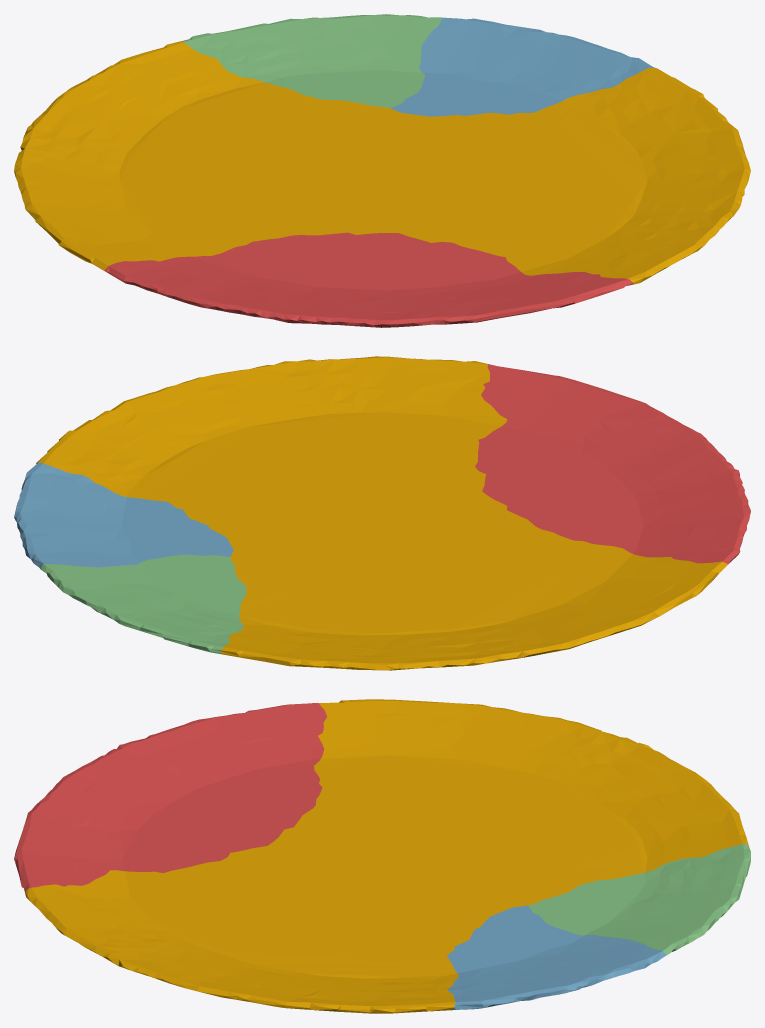
File: fractured_25_4pcs.glb
3 views of the same model, one above another, from view 1: azimuth 30°, elevation 25°; view 2: azimuth 150°, elevation 25°; view 3: azimuth 270°, elevation 25° (orthographic).
Parts seen in each view (by area): view 1: piece_0.obj, piece_1.obj, piece_2.obj, piece_3.obj; view 2: piece_0.obj, piece_1.obj, piece_2.obj, piece_3.obj; view 3: piece_0.obj, piece_1.obj, piece_3.obj, piece_2.obj.
Boxes of the visible parts, x1=… form: piece_0.obj: x1=14, y1=41, x2=750, y2=284; piece_1.obj: x1=104, y1=232, x2=633, y2=327; piece_2.obj: x1=390, y1=17, x2=654, y2=116; piece_3.obj: x1=181, y1=14, x2=441, y2=108; piece_0.obj: x1=36, y1=356, x2=727, y2=670; piece_1.obj: x1=475, y1=364, x2=750, y2=564; piece_2.obj: x1=14, y1=462, x2=233, y2=567; piece_3.obj: x1=40, y1=554, x2=246, y2=653; piece_0.obj: x1=25, y1=699, x2=748, y2=1013; piece_1.obj: x1=14, y1=703, x2=327, y2=892; piece_3.obj: x1=528, y1=844, x2=750, y2=955; piece_2.obj: x1=447, y1=905, x2=666, y2=1009.
Size of the model in its own units: 1 by 0.0296 by 0.998.
